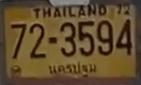2: (29, 22, 45, 58)
3: (59, 21, 75, 56)
4: (115, 18, 131, 54)
5: (77, 20, 93, 55)
7: (10, 23, 26, 58)
9: (96, 19, 112, 55)
NPT: (45, 60, 101, 80)
